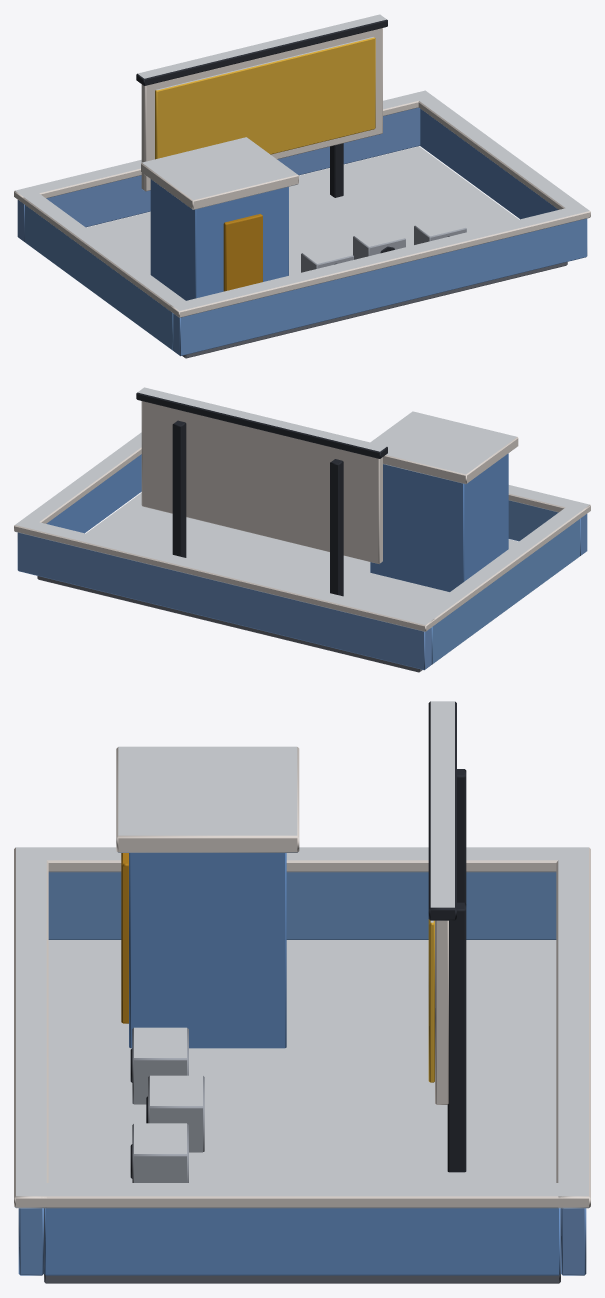
Rendered from Shop_Toys_Roof.glb.
3 views of the same model, one above another, from view 1: azimuth 30°, elevation 25°; view 2: azimuth 150°, elevation 25°; view 3: azimuth 270°, elevation 25° (orthographic). The views are drawn at different scales.
Visible parts, largest first — view 1: Shop_Toys_Roof; view 2: Shop_Toys_Roof; view 3: Shop_Toys_Roof.
Boxes of the visible parts, left/top/right/bottom form: Shop_Toys_Roof: left=14, top=14, right=590, bottom=358; Shop_Toys_Roof: left=14, top=387, right=590, bottom=672; Shop_Toys_Roof: left=14, top=701, right=590, bottom=1283.
Bounding box in the file's own units: 26.3 × 11.1 × 18.3.
